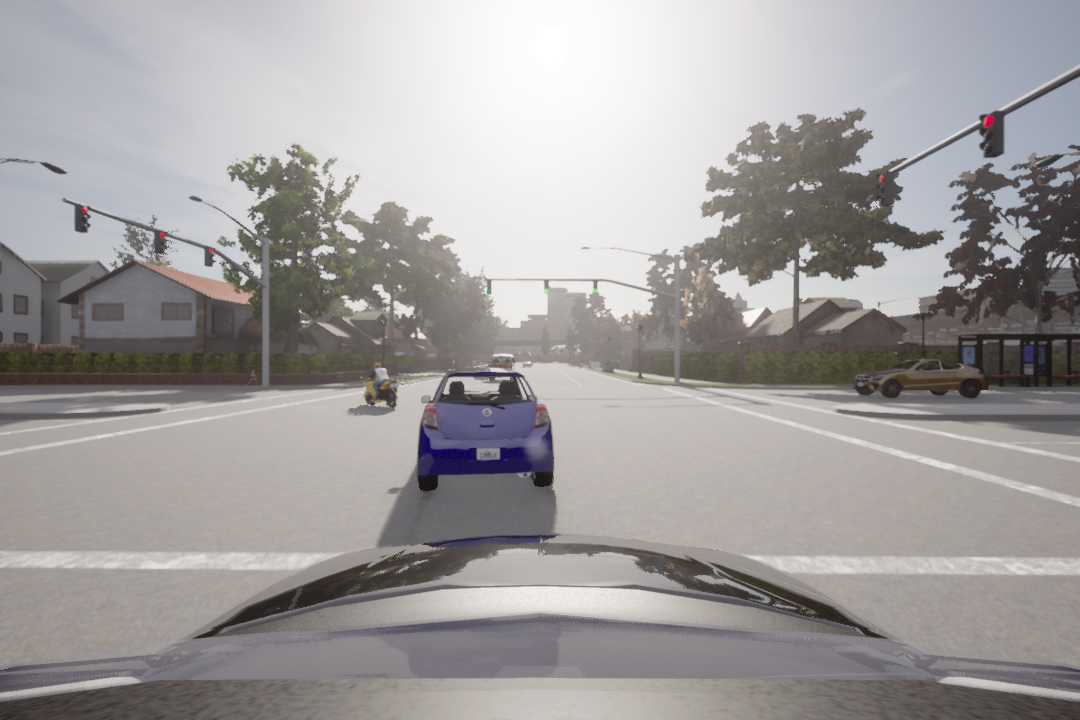TrafficLight: (981, 109, 1007, 159), (877, 171, 897, 207), (74, 202, 90, 237), (153, 231, 165, 256), (203, 245, 216, 267)
